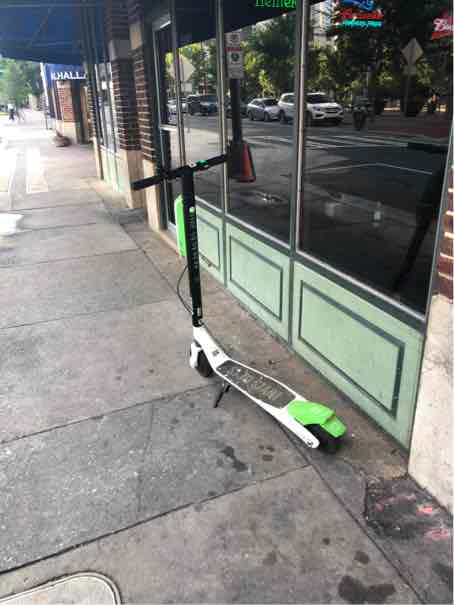scooter: (119, 149, 354, 461)
